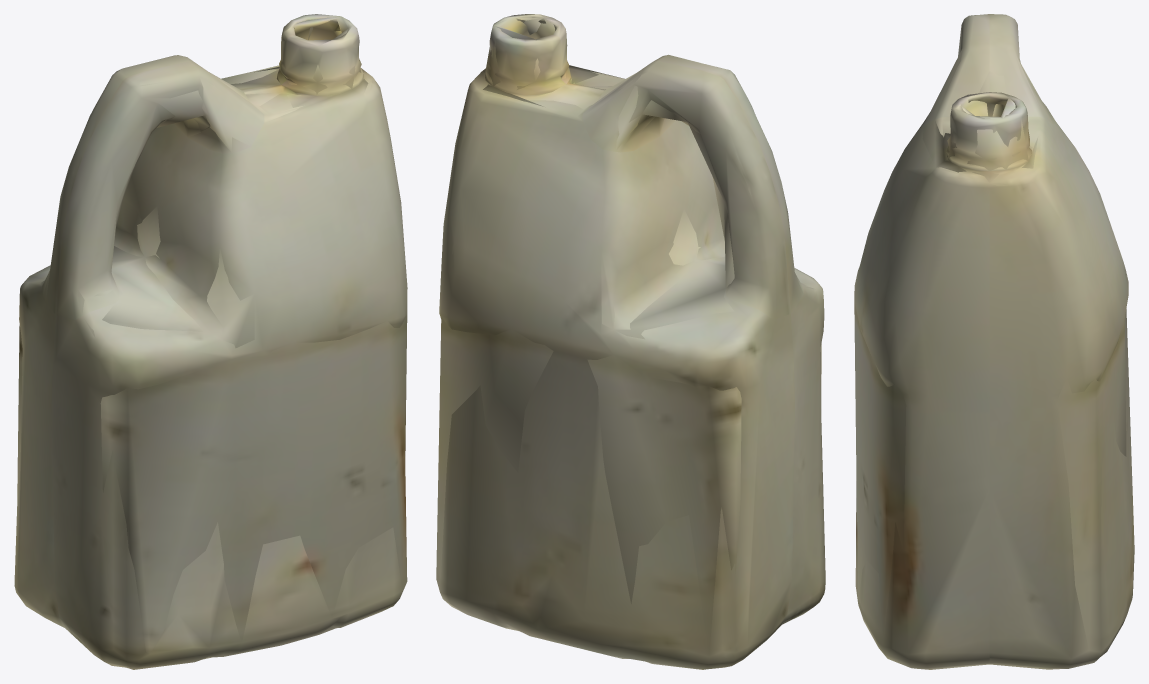
File: plastic_bottle_gallon.glb
3 renders of one model, left to right at view 1: azimuth 30°, elevation 25°; view 2: azimuth 150°, elevation 25°; view 3: azimuth 270°, elevation 25°, orthographic.
Visible parts, largest first — view 1: plastic_bottle_gallon, plastic_bottle_gallon_lo; view 2: plastic_bottle_gallon, plastic_bottle_gallon_lo; view 3: plastic_bottle_gallon, plastic_bottle_gallon_lo.
Part boxes in pixels (x1,y1,x2,y2): plastic_bottle_gallon: (14, 14, 407, 669); plastic_bottle_gallon_lo: (17, 16, 407, 659); plastic_bottle_gallon: (439, 14, 825, 669); plastic_bottle_gallon_lo: (436, 17, 821, 668); plastic_bottle_gallon: (854, 14, 1134, 669); plastic_bottle_gallon_lo: (854, 16, 1126, 651).
Bounding box in the file's own units: 0.1661 × 0.2745 × 0.126.
1 material, 1 textured.
